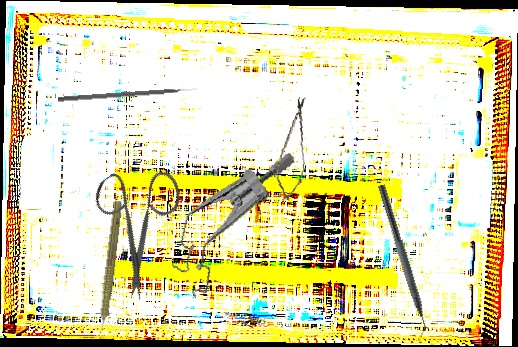Chopper: (367, 184, 435, 344)
Handpiece: (91, 199, 125, 343)
Hook Surgical: (57, 87, 199, 103)
Iris Scissors: (62, 145, 221, 305)
Micro Scissor: (273, 93, 314, 205)
Speculum: (164, 131, 297, 316)
